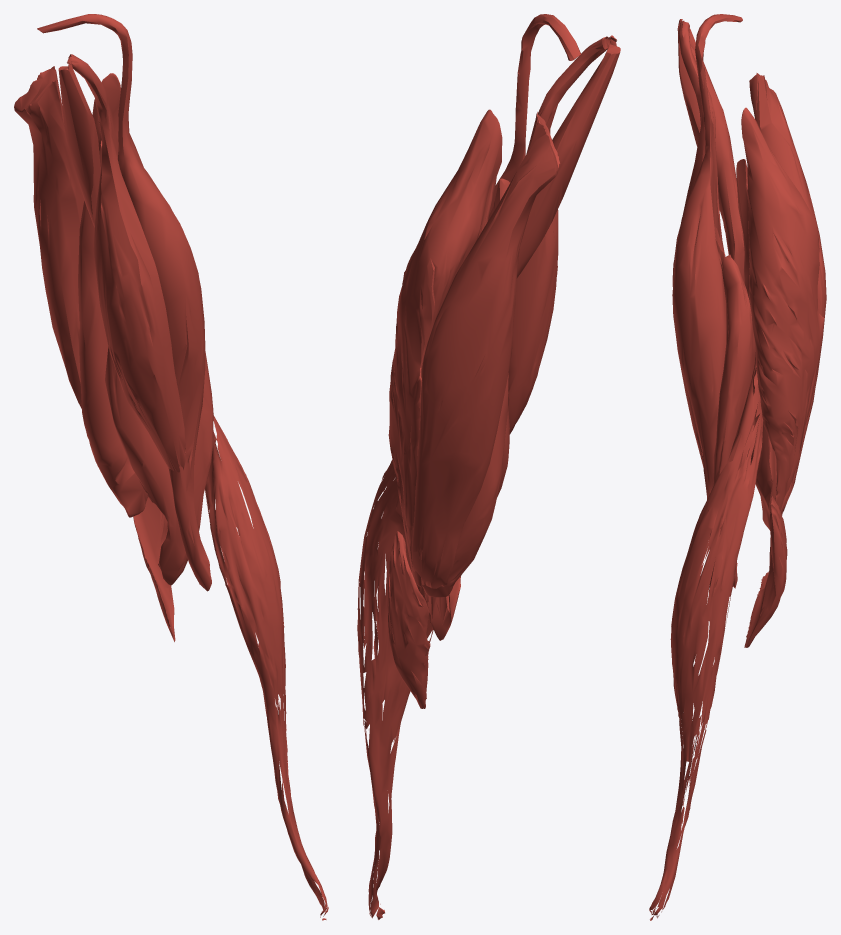
File: upperarmm.glb
3 views of the same model, side by side, from view 1: azimuth 30°, elevation 25°; view 2: azimuth 150°, elevation 25°; view 3: azimuth 270°, elevation 25° (orthographic). The views are drawn at different scales.
Visible parts, largest first — view 1: short head of left biceps brachii, left brachioradialis, long head of left biceps brachii, long head of left triceps brachii, medial head of left triceps brachii, left brachialis, left coracobrachialis, left anconeus, lateral head of left triceps brachii; view 2: long head of left triceps brachii, lateral head of left triceps brachii, left brachioradialis, short head of left biceps brachii, left coracobrachialis, left anconeus, medial head of left triceps brachii, long head of left biceps brachii, left brachialis; view 3: lateral head of left triceps brachii, left brachioradialis, long head of left biceps brachii, left brachialis, left coracobrachialis, long head of left triceps brachii, medial head of left triceps brachii, left anconeus, short head of left biceps brachii.
Part boxes in pixels (left/top/right/bottom): short head of left biceps brachii: left=68, top=54, right=185, bottom=472; left brachioradialis: left=205, top=415, right=328, bottom=920; long head of left biceps brachii: left=37, top=14, right=211, bottom=591; long head of left triceps brachii: left=14, top=66, right=84, bottom=408; medial head of left triceps brachii: left=78, top=140, right=147, bottom=517; left brachialis: left=105, top=347, right=213, bottom=585; left coracobrachialis: left=58, top=56, right=100, bottom=227; left anconeus: left=133, top=497, right=175, bottom=641; lateral head of left triceps brachii: left=92, top=73, right=143, bottom=166; long head of left triceps brachii: left=410, top=112, right=560, bottom=588; lateral head of left triceps brachii: left=388, top=109, right=502, bottom=586; left brachioradialis: left=357, top=460, right=433, bottom=919; short head of left biceps brachii: left=508, top=36, right=610, bottom=434; left coracobrachialis: left=517, top=35, right=620, bottom=277; left anconeus: left=388, top=531, right=430, bottom=708; medial head of left triceps brachii: left=395, top=178, right=510, bottom=597; long head of left biceps brachii: left=424, top=14, right=580, bottom=626; left brachialis: left=430, top=406, right=509, bottom=640; lateral head of left triceps brachii: left=741, top=107, right=824, bottom=515; left brachioradialis: left=649, top=354, right=763, bottom=920; long head of left biceps brachii: left=672, top=14, right=742, bottom=595; left brachialis: left=713, top=226, right=755, bottom=588; left coracobrachialis: left=677, top=19, right=744, bottom=283; long head of left triceps brachii: left=749, top=73, right=826, bottom=512; medial head of left triceps brachii: left=736, top=159, right=776, bottom=530; left anconeus: left=744, top=496, right=787, bottom=647; short head of left biceps brachii: left=672, top=20, right=724, bottom=467.
Size of the model in its own units: 0.1504 by 0.5297 by 0.1041.
